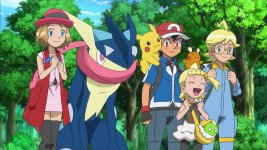greninja: (59, 7, 141, 149)
pikachu: (132, 20, 161, 76)
